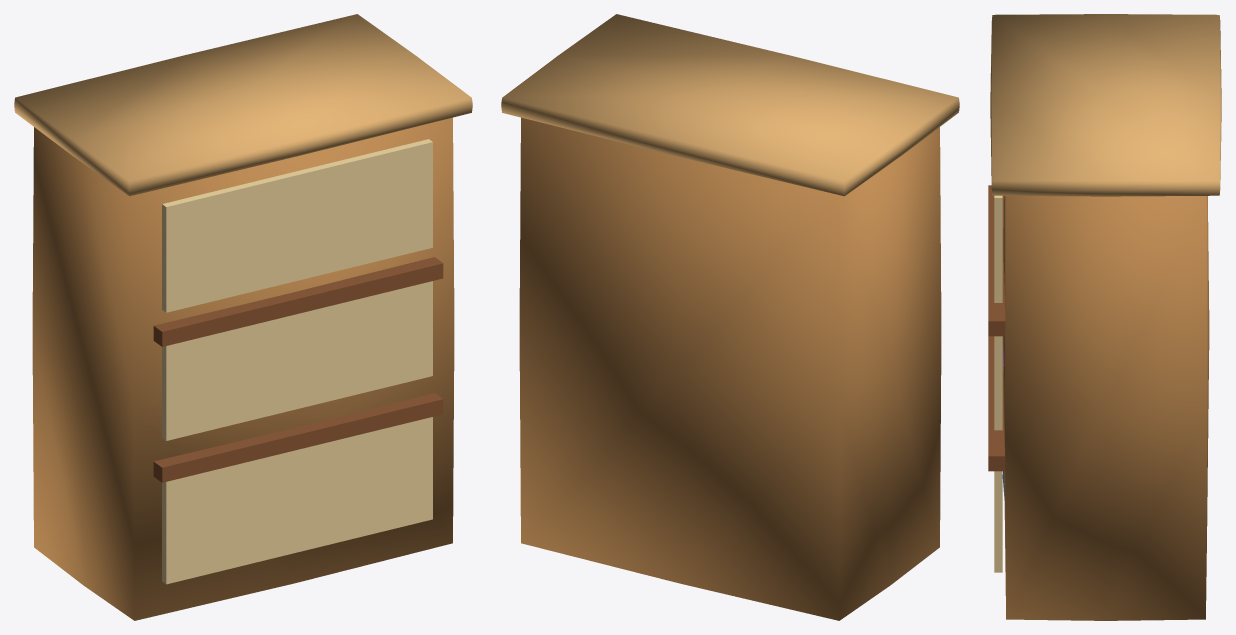
Rendered from cabinet_small.glb.
The picture shows the model from 3 angles, left to right: view 1: azimuth 30°, elevation 25°; view 2: azimuth 150°, elevation 25°; view 3: azimuth 270°, elevation 25°; orthographic projection.
Parts seen in each view (by area): view 1: root; view 2: root; view 3: root.
Part boxes in pixels (bbox=[...]): root: bbox=[14, 14, 472, 620]; root: bbox=[501, 14, 959, 620]; root: bbox=[988, 14, 1221, 620].
Bounding box in the file's own units: 0.96 × 1.2 × 0.565.
